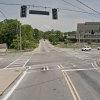Traffic light: (14, 1, 72, 23)
